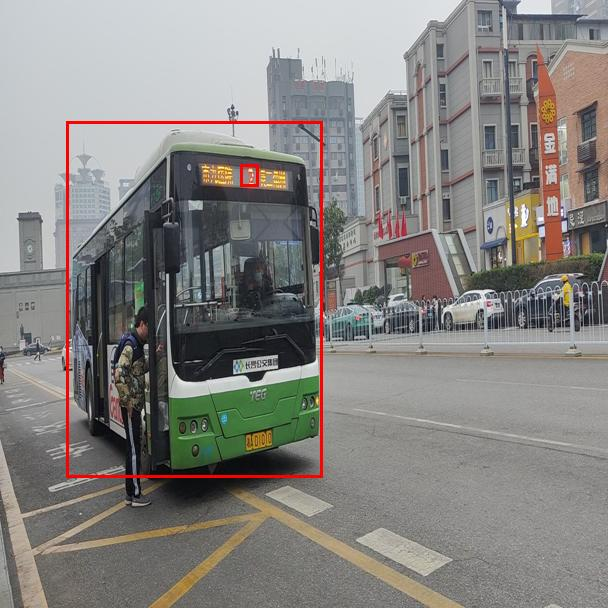bus: (66, 121, 322, 477)
screen: (240, 164, 258, 186)
